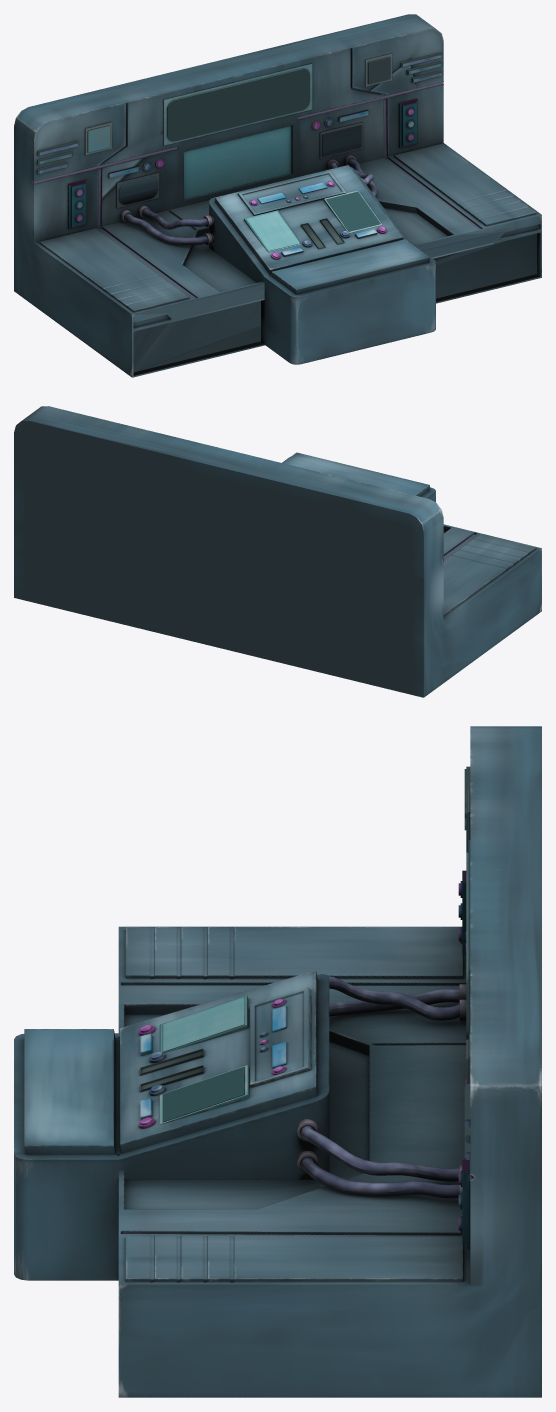
Rendered from MesaComandoFINAL.fbx.
3 renders of one model, top to bottom at view 1: azimuth 30°, elevation 25°; view 2: azimuth 150°, elevation 25°; view 3: azimuth 270°, elevation 25°, orthographic. The views are drawn at different scales.
Visible parts, largest first — view 1: Base.001; view 2: Base.001; view 3: Base.001.
Part boxes in pixels (x1,y1,x2,y2): Base.001: (14,14,541,377); Base.001: (14,406,541,697); Base.001: (14,726,541,1397).
Size of the model in its own units: 413 by 174 by 257.
